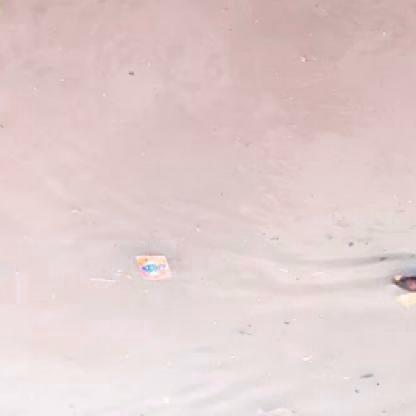Trash: (135, 253, 172, 283)
